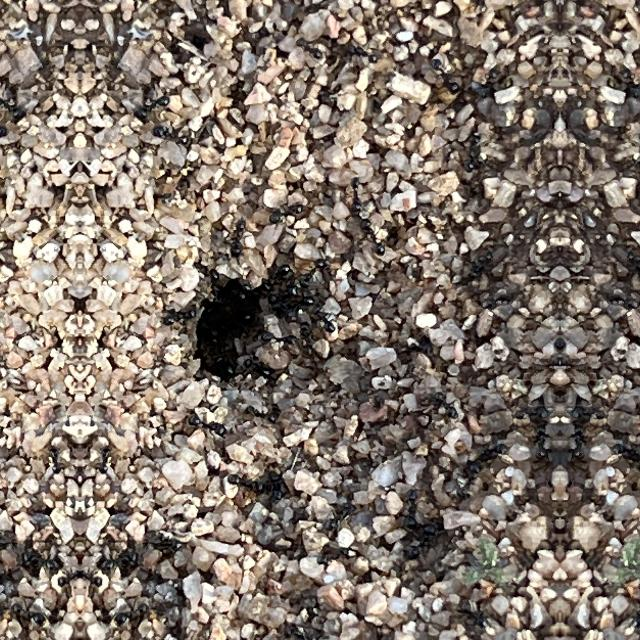Messor: (347, 214, 388, 258), (184, 406, 234, 442), (158, 290, 200, 332), (152, 115, 196, 155), (264, 196, 308, 234), (291, 30, 329, 70), (226, 466, 268, 502), (110, 594, 154, 628), (6, 594, 50, 628), (344, 170, 374, 217), (432, 51, 462, 97), (459, 130, 486, 168), (137, 85, 167, 119), (344, 38, 380, 66), (227, 212, 250, 254), (270, 254, 294, 290), (0, 85, 23, 119), (80, 564, 102, 594), (58, 564, 80, 594), (633, 130, 640, 168)
